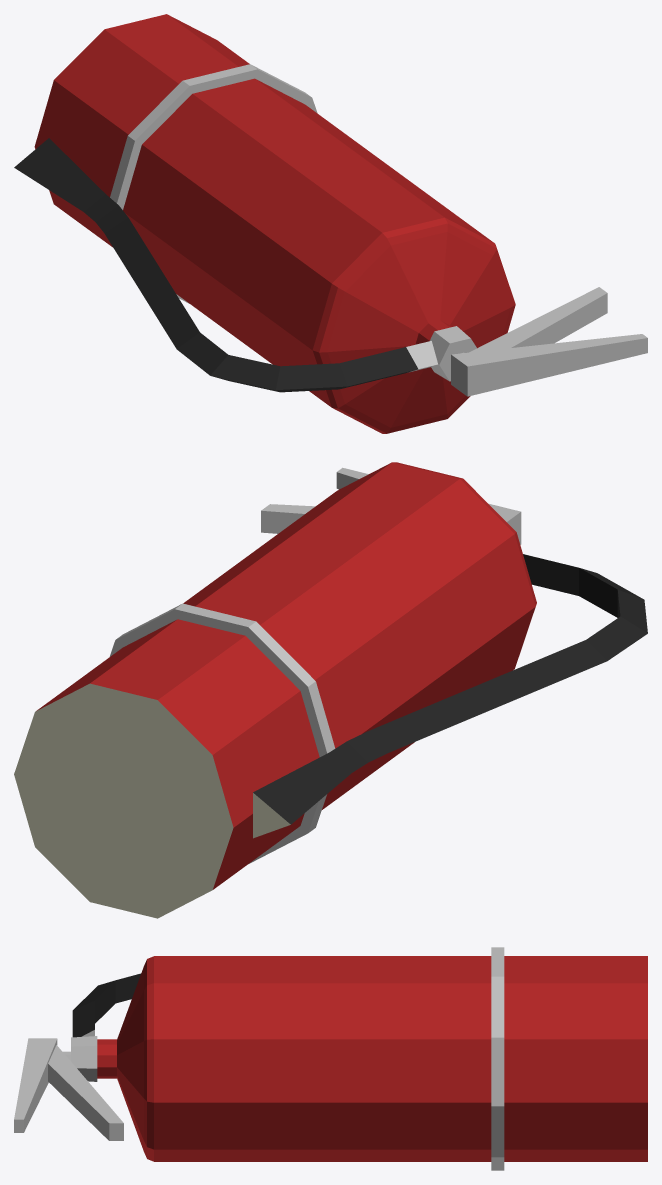
3 renders of one model, top to bottom at view 1: azimuth 30°, elevation 25°; view 2: azimuth 150°, elevation 25°; view 3: azimuth 270°, elevation 25°, orthographic. The views are drawn at different scales.
Parts seen in each view (by area): view 1: fire extinguisher; view 2: fire extinguisher; view 3: fire extinguisher.
Boxes of the visible parts, left/top/right/bottom form: fire extinguisher: left=14, top=14, right=647, bottom=433; fire extinguisher: left=14, top=462, right=647, bottom=918; fire extinguisher: left=14, top=947, right=647, bottom=1170.
Bounding box in the file's own units: 9.68 × 5.42 × 16.06.
